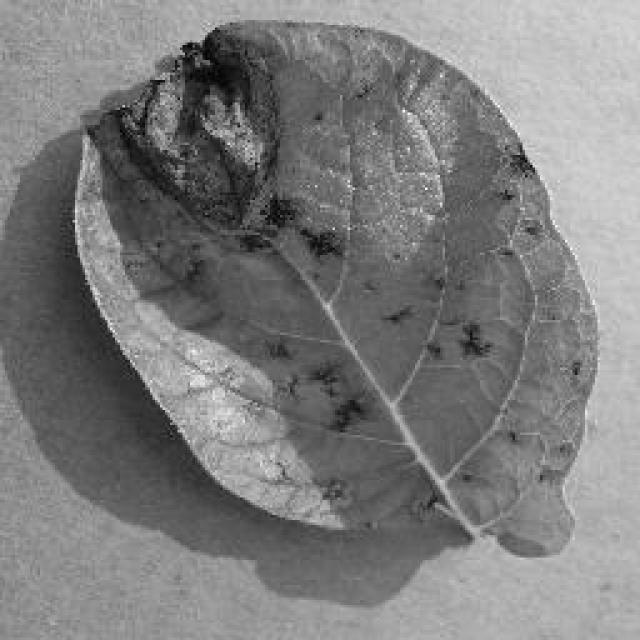Potato: (70, 18, 600, 558)
